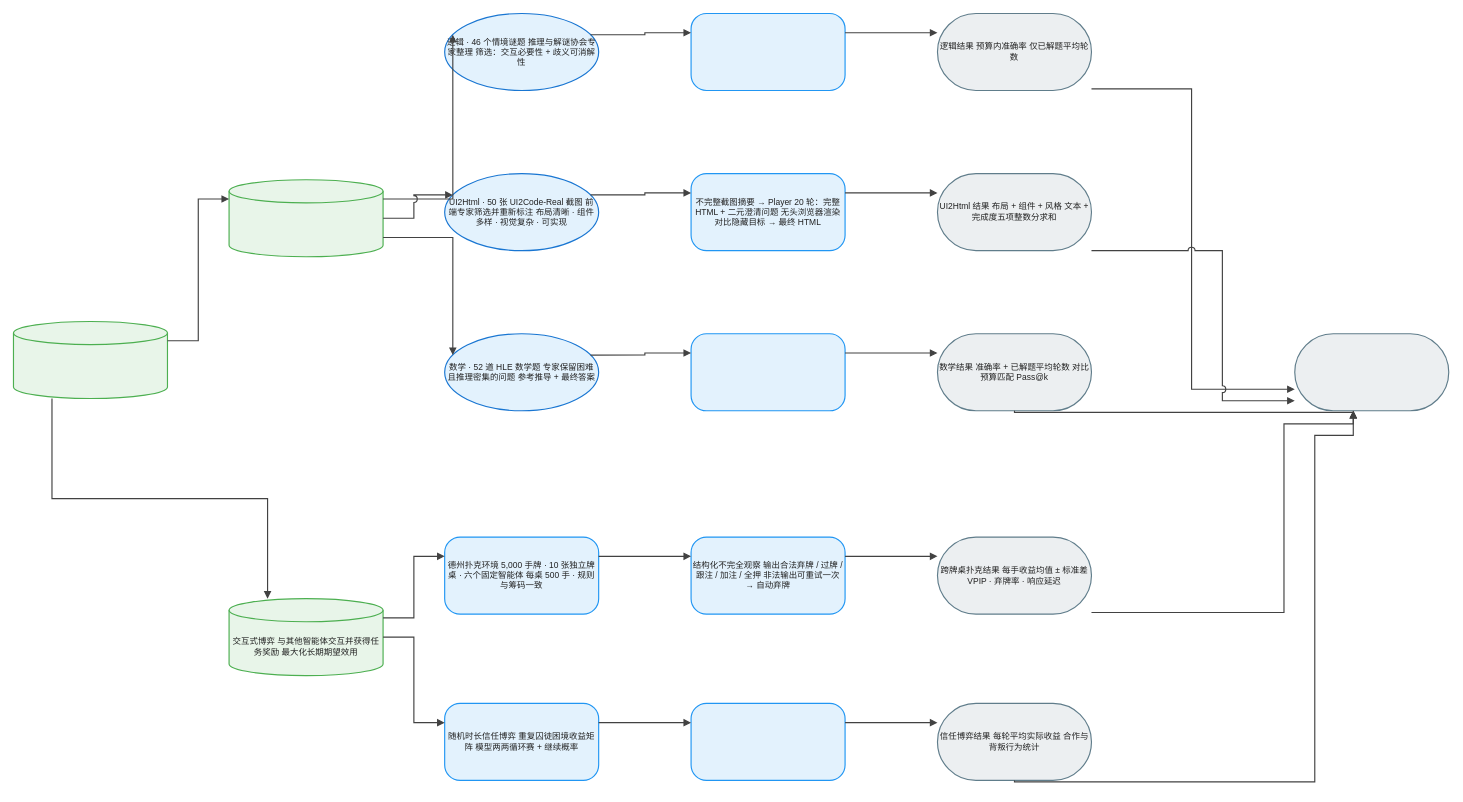
The diagram is 1463 pixels wide and 802 high, and some of its shapes have lost their labels. The centre of each missing label's shape, as x and y in pixels:
20 轮 Player–Judge 循环 询问是非问题或提交完整解释 反馈：是 / 否 / 两者皆有 / 无关 正确提交立即结束: (x=767, y=52)
20 轮中间命题 / 最终解答循环 命题获得四类稀疏反馈 温度 0 · 按 Player token 与 Pass@k 对齐预算: (x=767, y=372)
五测试床交互能力画像 逻辑 · UI 编码 · 数学 扑克 · 信任博弈 报告预算效率与评审器敏感性: (x=1371, y=372)
交互式证明 隐藏真值 + 全知验证器 在查询成本预算内最大化正确率: (x=305, y=218)
统一 Horizon-T 交互框架 Player π ↔ 环境 / 评审器 提交最终答案或预算耗尽时终止: (x=90, y=360)
观察完整历史动作 双方同时选择合作或背叛 在同一收益矩阵下重复比赛: (x=767, y=741)
